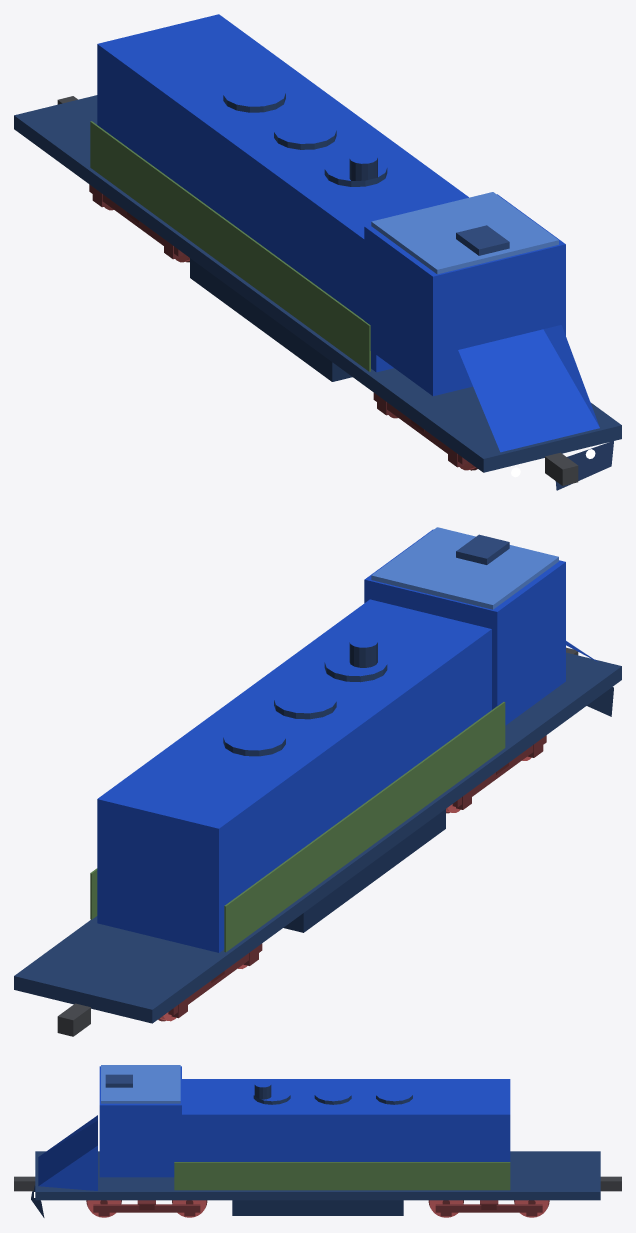
The model's file is pacific_locomotive_lod0.glb.
3 renders of one model, top to bottom at view 1: azimuth 30°, elevation 25°; view 2: azimuth 150°, elevation 25°; view 3: azimuth 270°, elevation 25°, orthographic. The views are drawn at different scales.
Parts seen in each view (by area): view 1: Locomotive_Chassis, Bogie_Front, Bogie_Rear, Locomotive_Couplers; view 2: Locomotive_Chassis, Bogie_Rear, Bogie_Front, Locomotive_Couplers; view 3: Locomotive_Chassis, Bogie_Front, Bogie_Rear, Locomotive_Couplers.
Boxes of the visible parts, <box> form: Locomotive_Chassis: <box>14,14,621,490</box>; Bogie_Front: <box>373,393,477,470</box>; Bogie_Rear: <box>89,184,189,262</box>; Locomotive_Couplers: <box>57,96,578,485</box>; Locomotive_Chassis: <box>14,527,621,1023</box>; Bogie_Rear: <box>158,943,262,1021</box>; Bogie_Front: <box>446,735,546,813</box>; Locomotive_Couplers: <box>57,647,578,1036</box>; Locomotive_Chassis: <box>31,1065,600,1217</box>; Bogie_Front: <box>86,1200,207,1217</box>; Bogie_Rear: <box>428,1200,549,1217</box>; Locomotive_Couplers: <box>14,1176,621,1191</box>.
Bounding box in the file's own units: 3.15 × 4.67 × 19.9.
